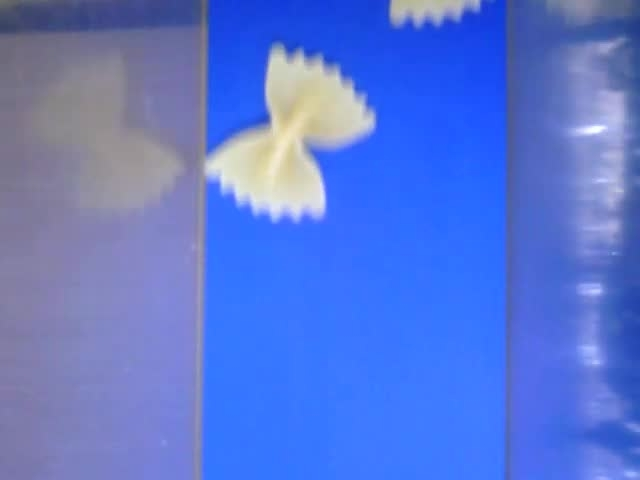farfalle: (204, 43, 378, 222), (388, 1, 479, 30)
